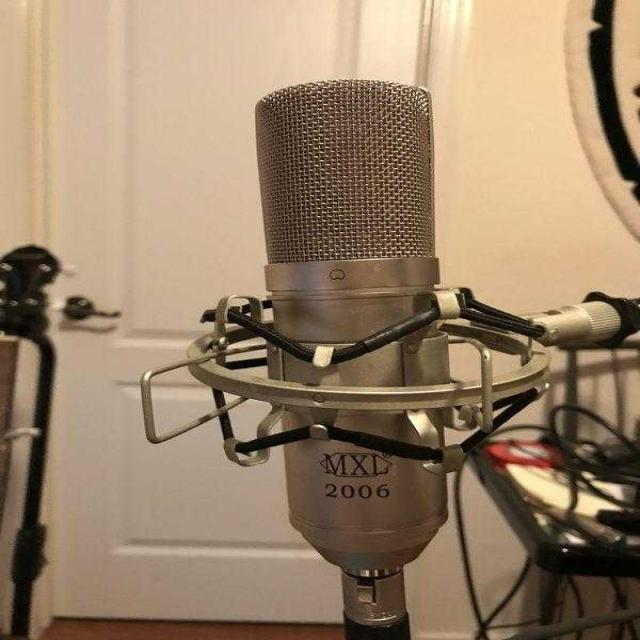microphone: (255, 79, 455, 581)
